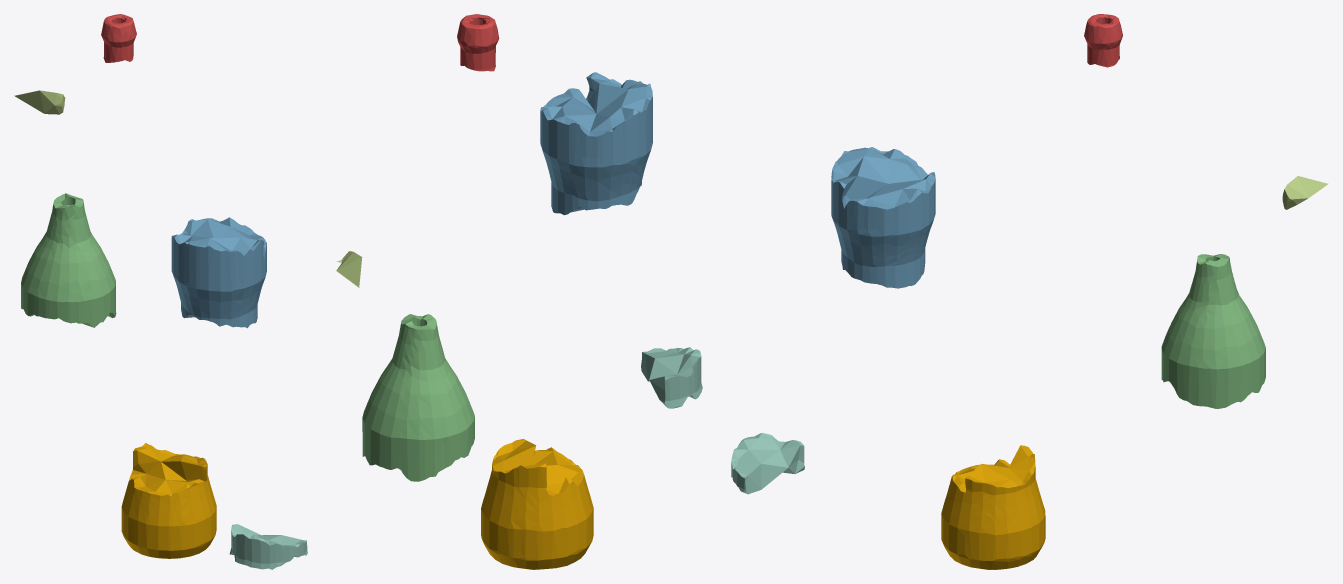
File: fractured_25_6pcs_transformed.glb
3 renders of one model, left to right at view 1: azimuth 30°, elevation 25°; view 2: azimuth 150°, elevation 25°; view 3: azimuth 270°, elevation 25°, orthographic. The views are drawn at different scales.
Parts seen in each view (by area): view 1: piece_0.obj, piece_2.obj, piece_3.obj, piece_4.obj, piece_1.obj, piece_5.obj; view 2: piece_3.obj, piece_2.obj, piece_0.obj, piece_4.obj, piece_1.obj, piece_5.obj; view 3: piece_2.obj, piece_3.obj, piece_0.obj, piece_4.obj, piece_1.obj, piece_5.obj.
Part boxes in pixels (x1,y1,x2,y2): piece_0.obj: (121, 443, 216, 558); piece_2.obj: (171, 217, 266, 328); piece_3.obj: (21, 193, 116, 327); piece_4.obj: (229, 524, 307, 569); piece_1.obj: (101, 14, 136, 62); piece_5.obj: (14, 90, 65, 114); piece_3.obj: (362, 314, 474, 481); piece_2.obj: (540, 72, 652, 215); piece_0.obj: (481, 439, 593, 569); piece_4.obj: (641, 347, 702, 408); piece_1.obj: (457, 14, 499, 71); piece_5.obj: (336, 251, 362, 287); piece_2.obj: (831, 147, 935, 288); piece_3.obj: (1161, 254, 1265, 408); piece_0.obj: (941, 445, 1045, 569); piece_4.obj: (731, 433, 804, 494); piece_1.obj: (1084, 14, 1122, 67); piece_5.obj: (1282, 176, 1328, 209).
Bounding box in the file's own units: 0.2848 × 1.6 × 1.63.
